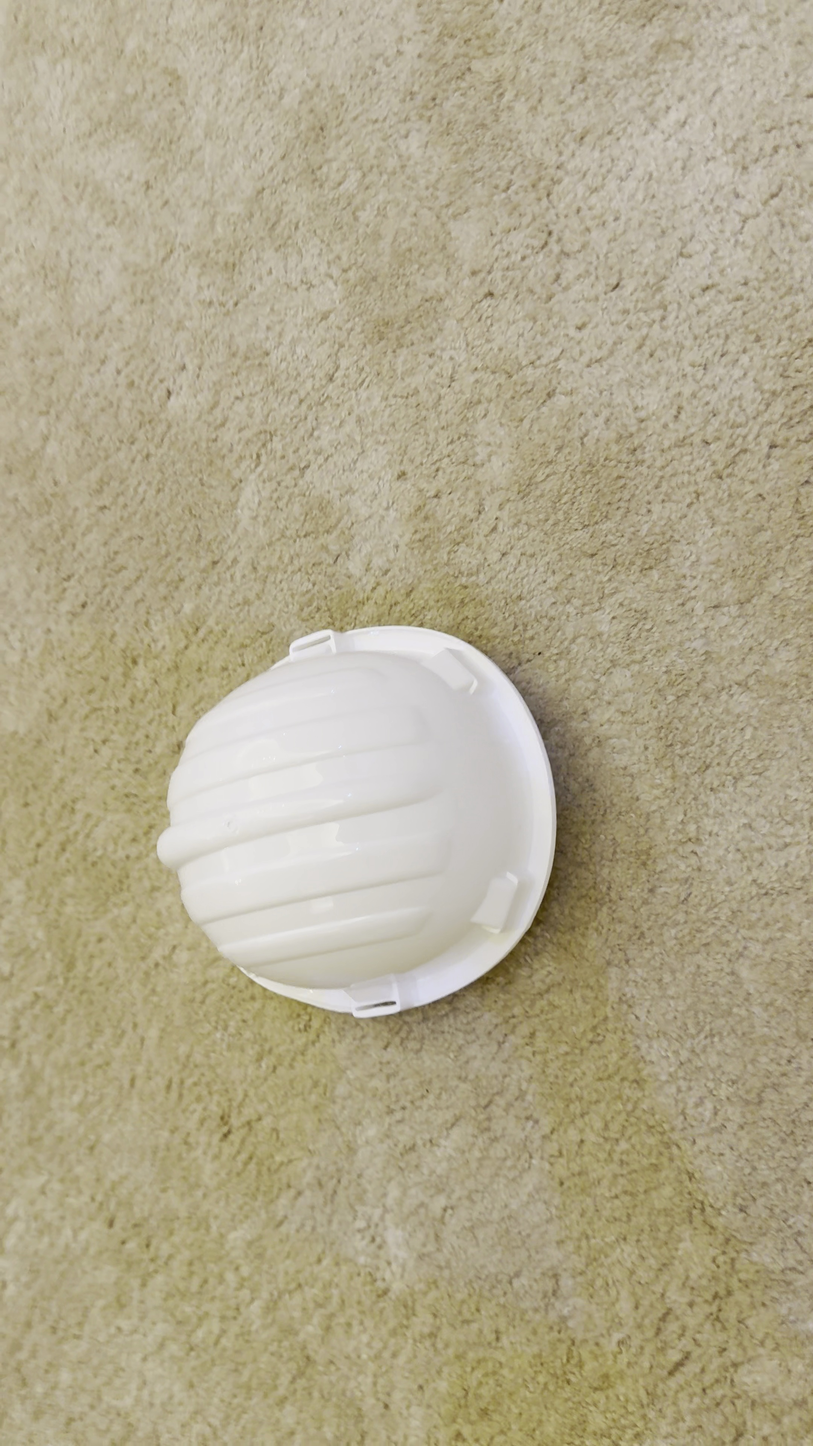safety_helmet: (155, 622, 559, 1021)
